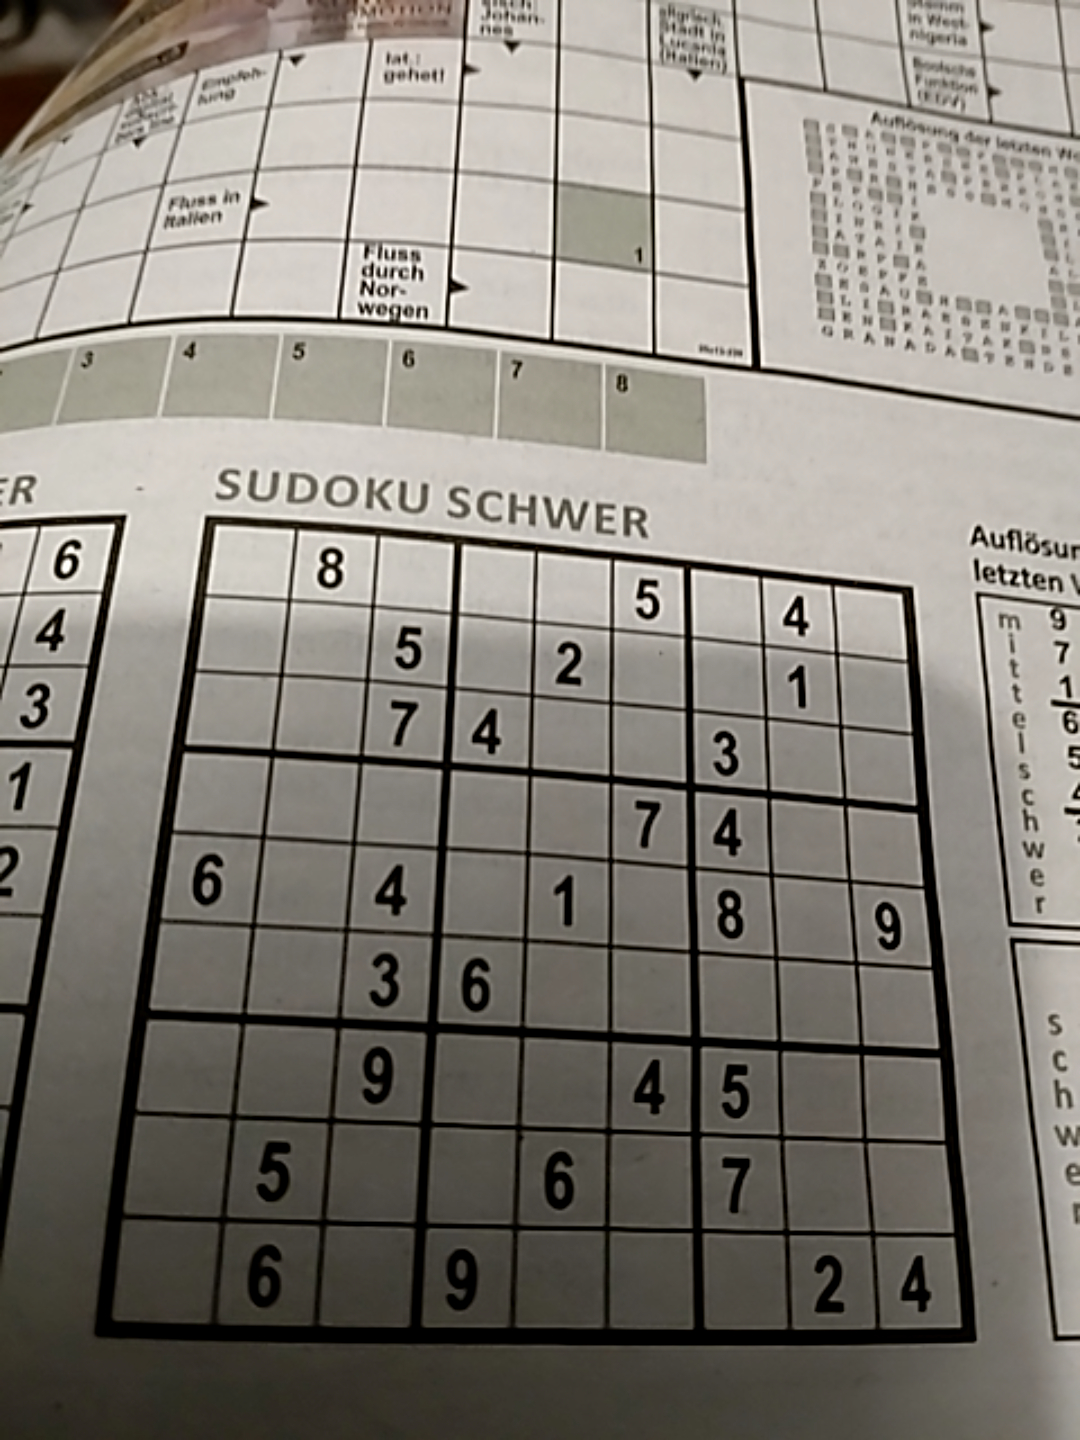sudoku: (86, 513, 975, 1353)
